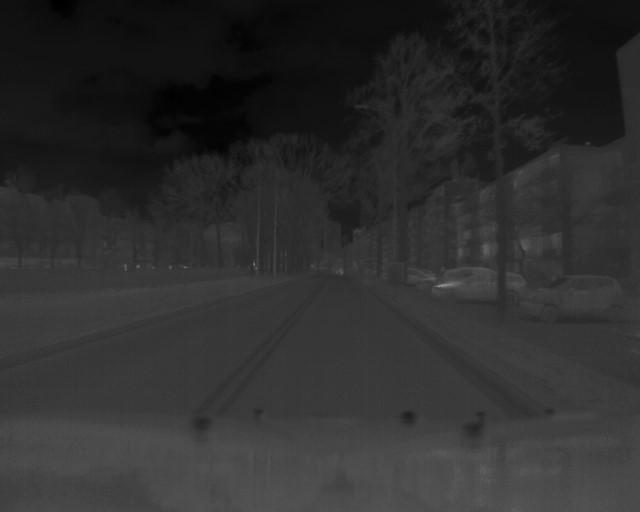car: (523, 276, 628, 322), (437, 270, 520, 306)
